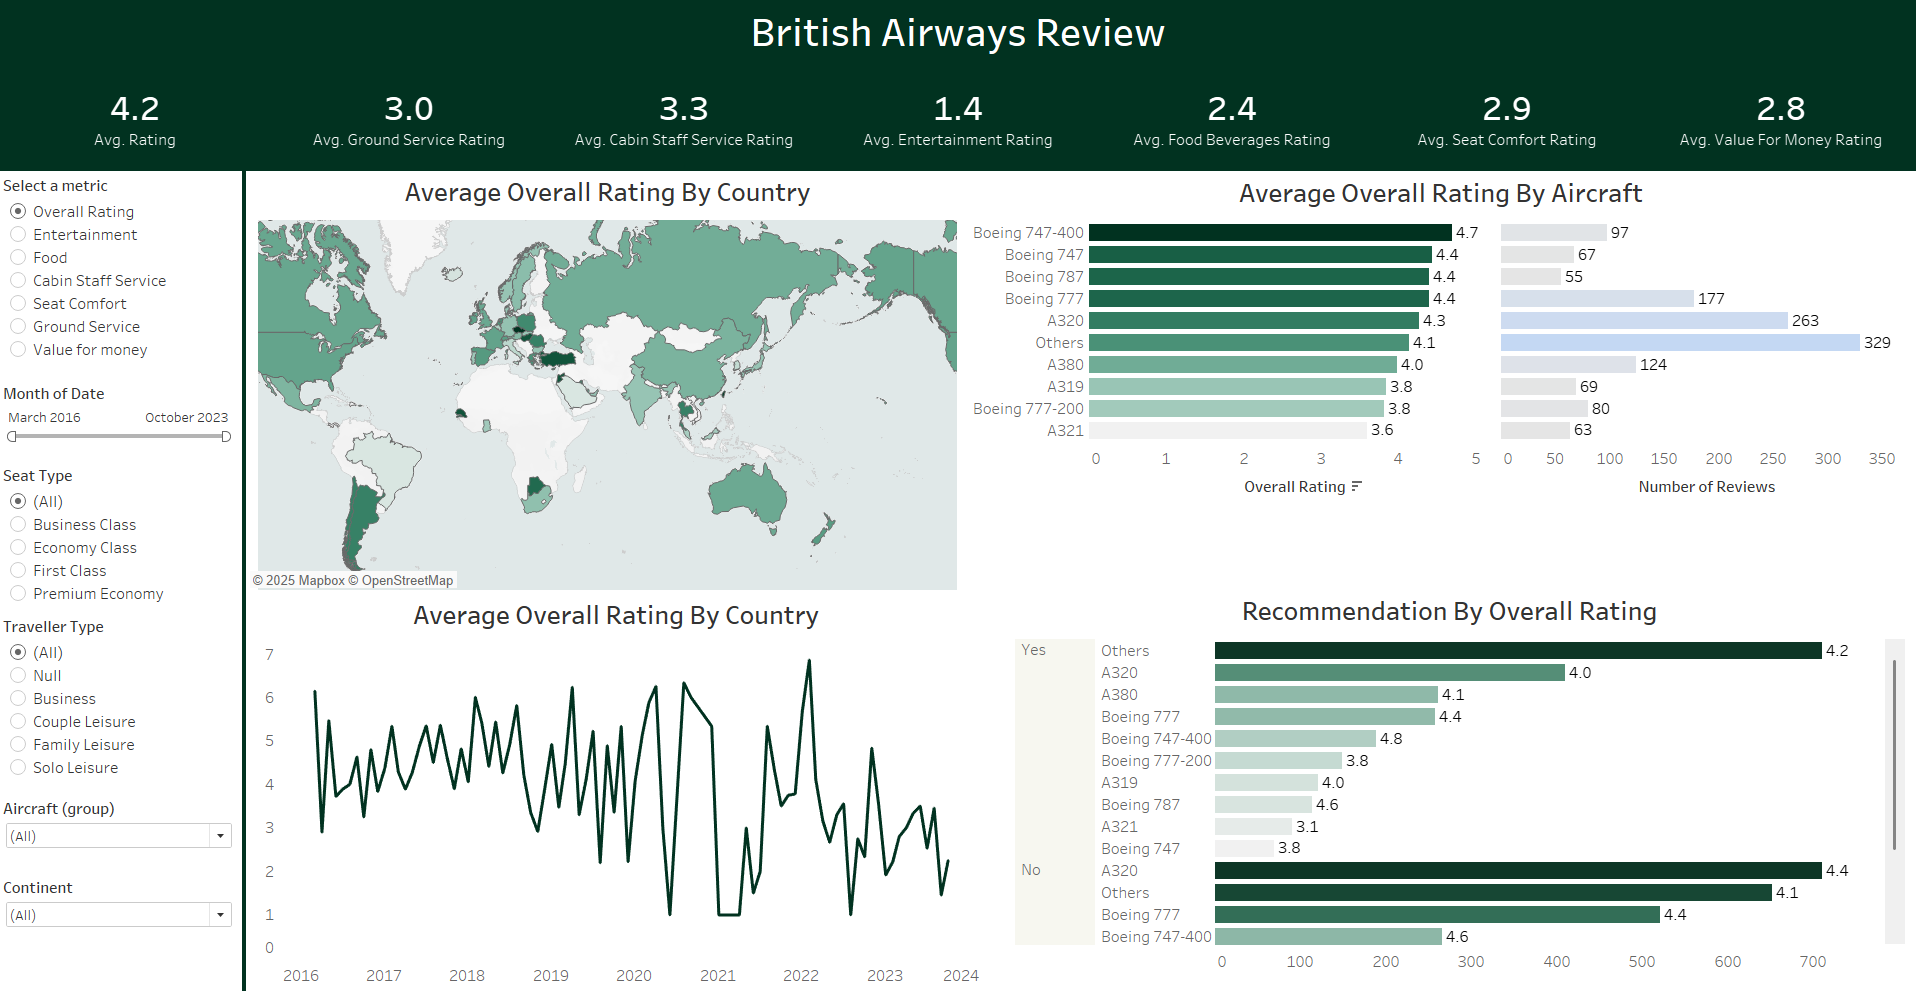

Layout of this report page (visuals, bound fields, positions):
{"tool":"tableau","page":{"name":"Dashboard 1","canvas":[1000,1000],"units":"permille","ordinal":0},"visuals":[{"type":"text","box":[0,0,1000,64.9]},{"type":"worksheet","title":"Summary","mark":"Automatic","box":[0,63.7,1000,109.9]},{"type":"worksheet","title":"Map","mark":"Automatic","box":[129.9,172.3,375.4,423.2]},{"type":"parameter","param":"[Parameters].[Parameter 1]","box":[0.6,173.5,125.2,232.2]},{"type":"worksheet","title":"Aircraft avg. review","mark":"Automatic","cols":["Calculation_767863798211297281","ba_reviews.csv_89E8B602DFB24F10BF4EB38417284271"],"box":[506,173.5,492.2,444.4]},{"type":"filter","title":"Map","param":"[federated.169q04g0qlitl21b5qauf1a4kn47].[tmn:date:qk]","box":[0.6,405.7,125.2,102.4]},{"type":"filter","title":"Map","param":"[federated.169q04g0qlitl21b5qauf1a4kn47].[none:seat_type:nk]","box":[0.6,508.1,125.2,40]},{"type":"filter","title":"Map","param":"[federated.169q04g0qlitl21b5qauf1a4kn47].[none:traveller_type:nk]","box":[0.6,548.1,125.2,227.2]},{"type":"worksheet","title":"Yes/No","mark":"Automatic","rows":["recommended"],"cols":["Calculation_767863798211297281"],"box":[529.8,594.3,463.7,398.2]},{"type":"worksheet","title":"Month trend","mark":"Automatic","rows":["Calculation_767863798211297281"],"cols":["date"],"box":[131.7,598,380.2,398.2]},{"type":"filter","title":"Map","param":"[federated.169q04g0qlitl21b5qauf1a4kn47].[Aircraft (group)]","box":[0.6,775.3,125.2,98.6]},{"type":"filter","title":"Map","param":"[federated.169q04g0qlitl21b5qauf1a4kn47].[none:Continent:nk]","box":[0.6,873.9,125.2,121.1]}]}

Visuals, with their boxes on the dashboard's canvas, which has no fixed pixel size, in thousandths of its width and height (x1, y1, x2, y2). These are canvas units, not pixel positions in the 1916x991 screenshot, which may show the page scaled, cropped or inside an application window:
text: bbox=[0, 0, 1000, 65]
"Summary" worksheet: bbox=[0, 64, 1000, 174]
"Map" worksheet: bbox=[130, 172, 505, 596]
parameter: bbox=[1, 174, 126, 406]
"Aircraft avg. review" worksheet: bbox=[506, 174, 998, 618]
"Map" filter: bbox=[1, 406, 126, 508]
"Map" filter: bbox=[1, 508, 126, 548]
"Map" filter: bbox=[1, 548, 126, 775]
"Yes/No" worksheet: bbox=[530, 594, 994, 992]
"Month trend" worksheet: bbox=[132, 598, 512, 996]
"Map" filter: bbox=[1, 775, 126, 874]
"Map" filter: bbox=[1, 874, 126, 995]
